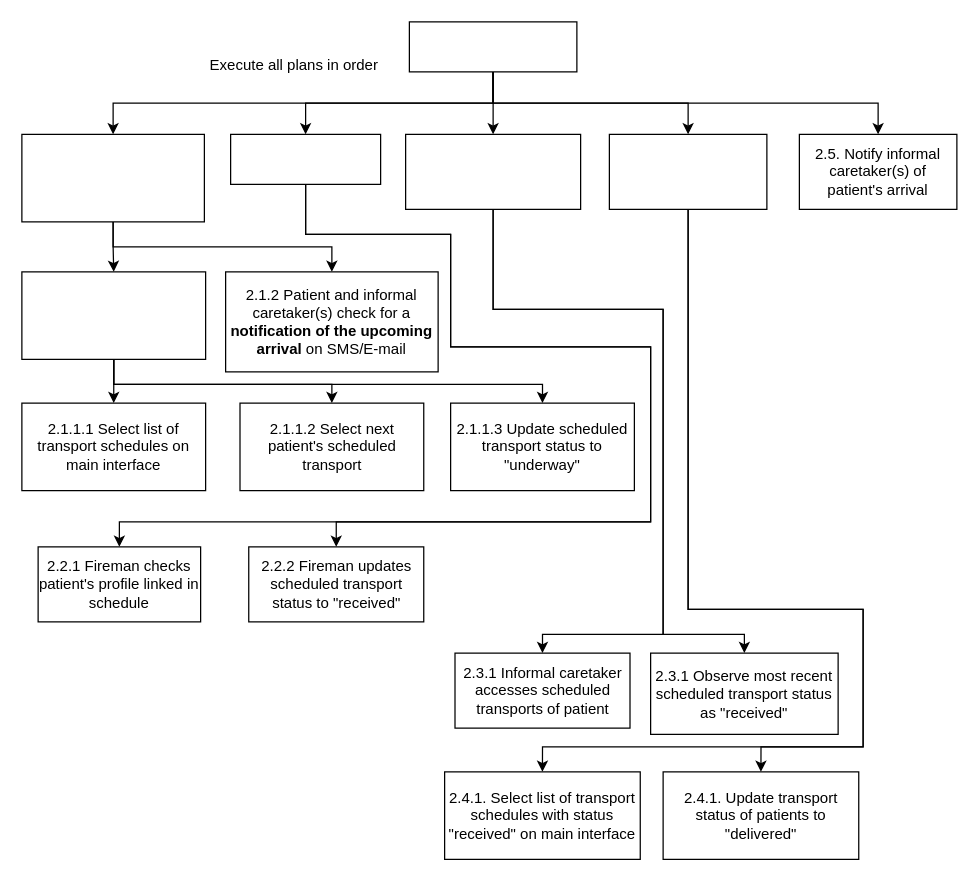
Some shapes in this 979 by 881 pixel diagram are drawn without their labels. The shapes that lost their labels are listed below. From the top down, each one's centre as x and y in pixels, then its label:
the point at 492,46: 2. Patient delivery
the point at 112,177: 2.1 Notify patient of transport's upcoming arrival
the point at 305,158: 2.2 Receive patient
the point at 492,171: 2.3. Notify informal caretaker(s) that patient's delivery is ongoing
the point at 687,171: 2.4. Delivery of the patient at the hospital
the point at 113,315: 2.1.1 Fireman updates transport schedule status of next patient
